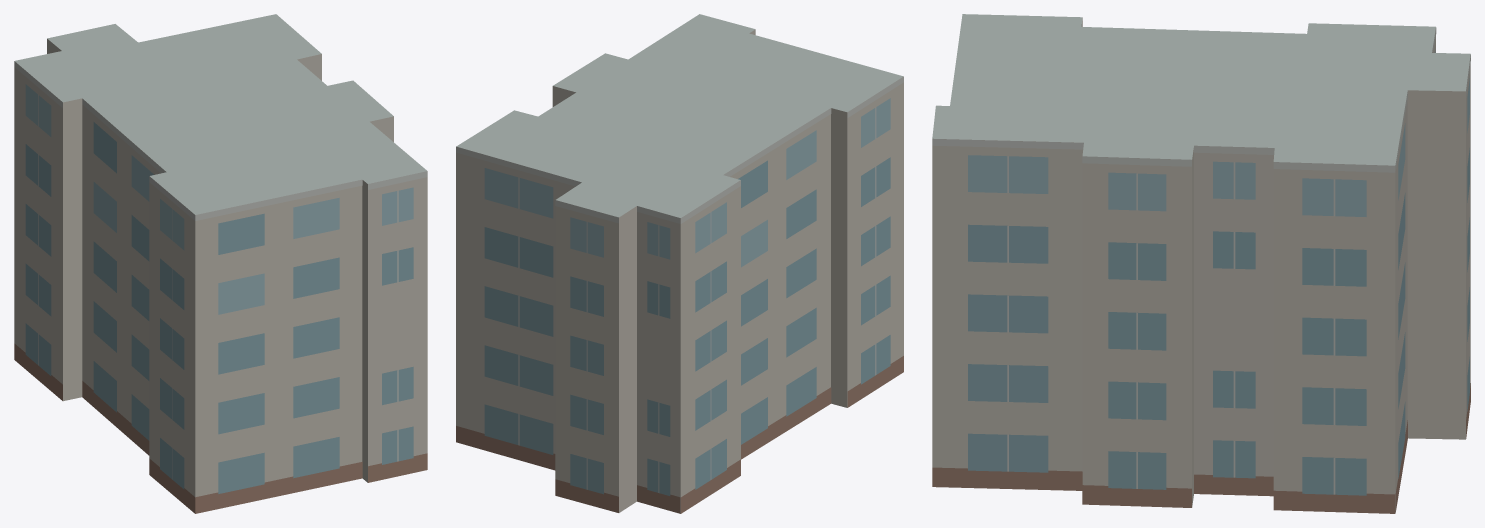
File: survey-upis-32769973.glb
3 views of the same model, side by side, from view 1: azimuth 30°, elevation 25°; view 2: azimuth 150°, elevation 25°; view 3: azimuth 270°, elevation 25° (orthographic). The views are drawn at different scales.
Parts seen in each view (by area): view 1: survey-upis-32769973.tmp; view 2: survey-upis-32769973.tmp; view 3: survey-upis-32769973.tmp.
Boxes of the visible parts, <box> form: survey-upis-32769973.tmp: <box>14,14,427,513</box>; survey-upis-32769973.tmp: <box>456,14,903,513</box>; survey-upis-32769973.tmp: <box>932,14,1470,513</box>.
Size of the model in its own units: 11.31 by 12.1 by 16.97.
